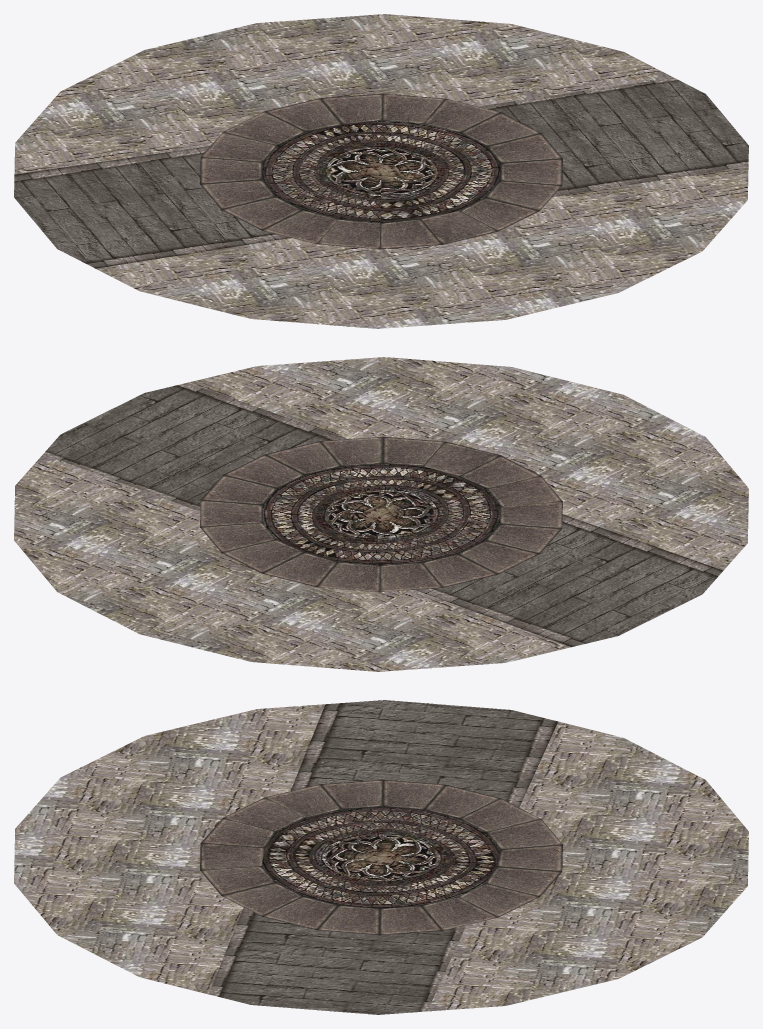
The model's file is floor22.obj.
3 views of the same model, one above another, from view 1: azimuth 30°, elevation 25°; view 2: azimuth 150°, elevation 25°; view 3: azimuth 270°, elevation 25° (orthographic).
Parts seen in each view (by area): view 1: floor22; view 2: floor22; view 3: floor22.
Boxes of the visible parts, x1,y1,x2,y2 form: floor22: (14,14,748,328); floor22: (14,357,748,671); floor22: (14,700,748,1014).
Size of the model in its own units: 420 by 0 by 414.
